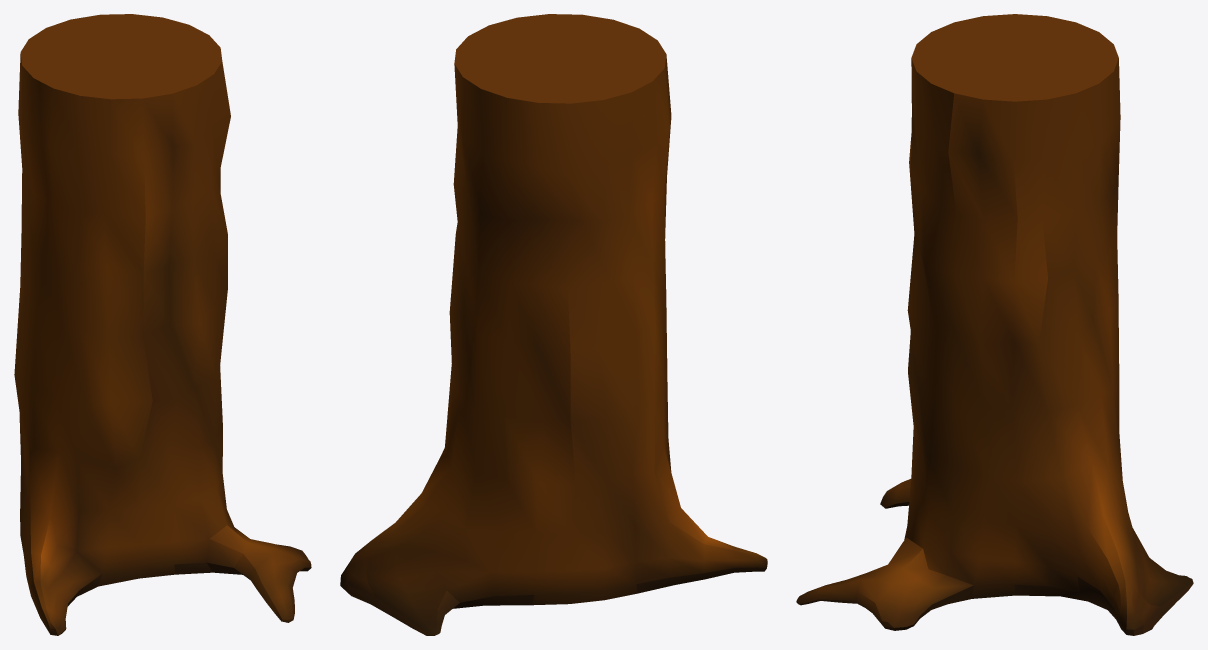
The model's file is TreeBottom1.fbx.
3 views of the same model, side by side, from view 1: azimuth 30°, elevation 25°; view 2: azimuth 150°, elevation 25°; view 3: azimuth 270°, elevation 25° (orthographic). The views are drawn at different scales.
Parts seen in each view (by area): view 1: TreeBottom1; view 2: TreeBottom1; view 3: TreeBottom1.
Part boxes in pixels (left/top/right/bottom): TreeBottom1: left=14, top=14, right=311, bottom=635; TreeBottom1: left=340, top=14, right=767, bottom=635; TreeBottom1: left=796, top=14, right=1193, bottom=635.
Bounding box in the file's own units: 304 × 512 × 358.
